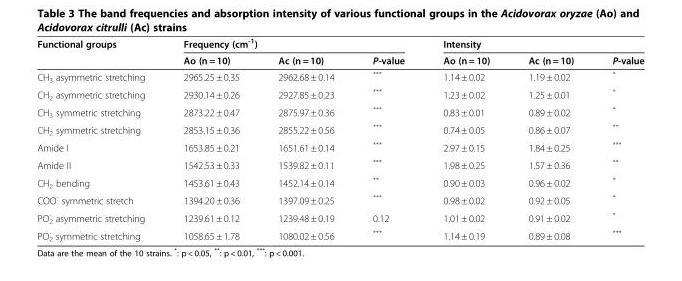table: (36, 36, 643, 241)
table column: (36, 36, 163, 241), (163, 36, 258, 241), (258, 36, 352, 241), (423, 36, 508, 241), (508, 36, 592, 241), (352, 36, 423, 241), (592, 36, 643, 241)
table column header: (36, 36, 643, 67)
table row: (36, 67, 643, 85), (36, 102, 643, 120), (36, 120, 643, 138), (36, 155, 643, 173), (36, 173, 643, 191), (36, 208, 643, 226), (36, 85, 643, 102), (36, 138, 643, 155), (36, 191, 643, 208), (36, 51, 643, 67), (36, 36, 643, 51), (36, 226, 643, 241)
table spanning cell: (36, 36, 163, 67), (163, 36, 423, 51), (423, 36, 643, 51)
